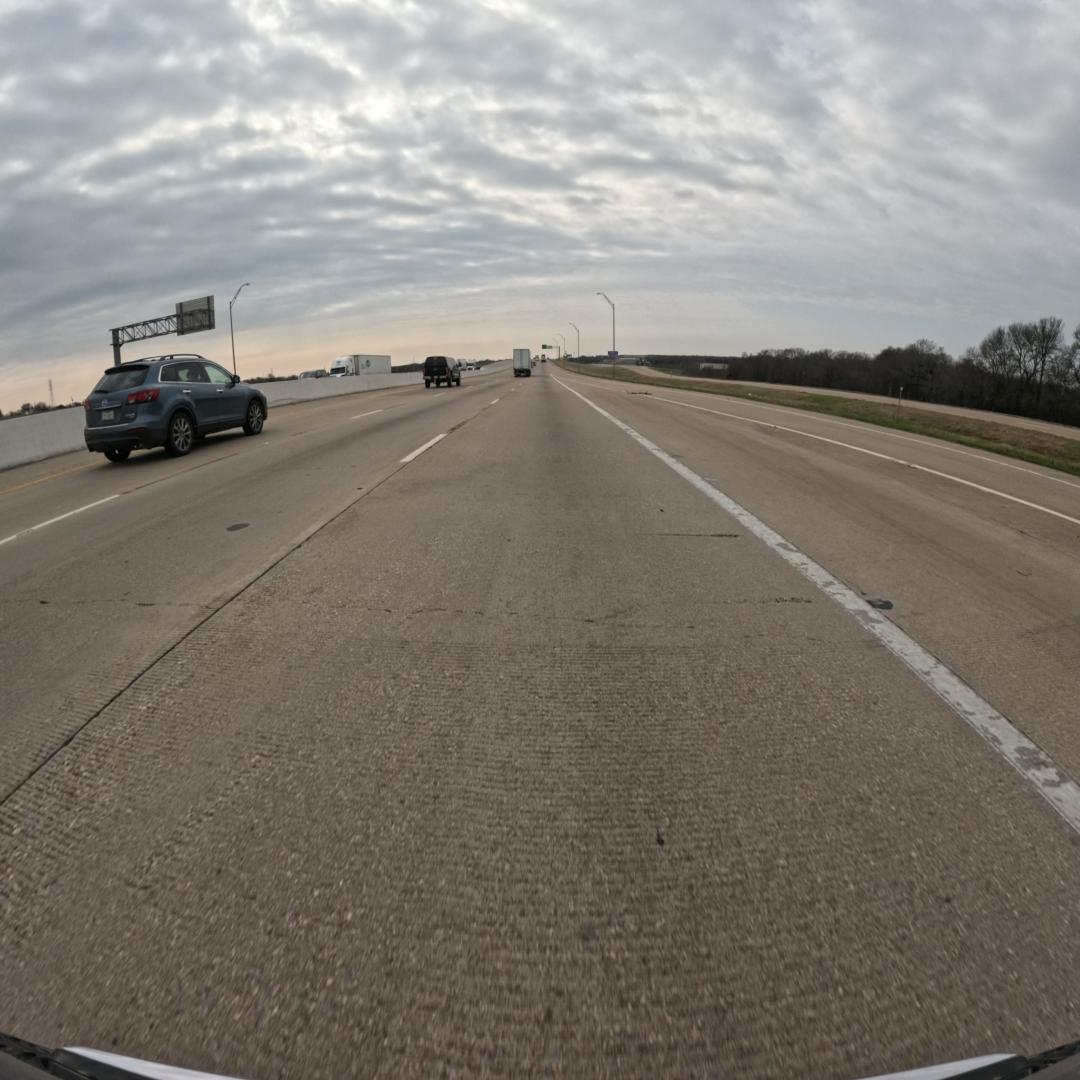lane0: (0, 375, 1080, 1077)
lane1: (0, 376, 519, 803)
